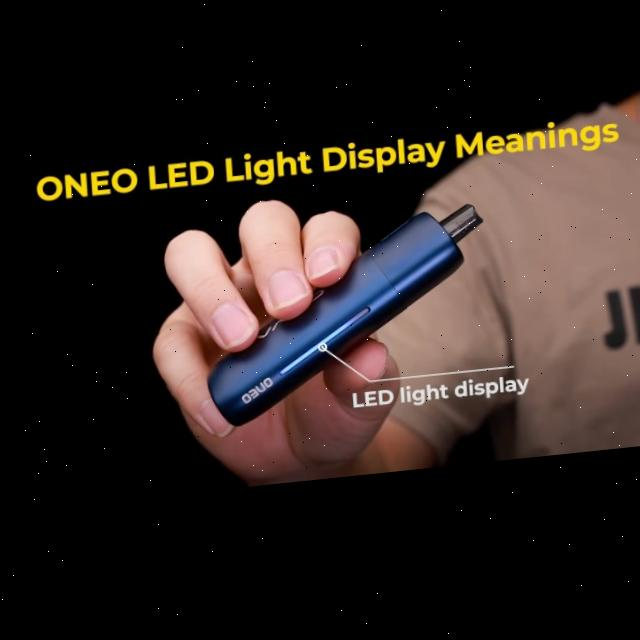vape: (193, 210, 490, 435)
